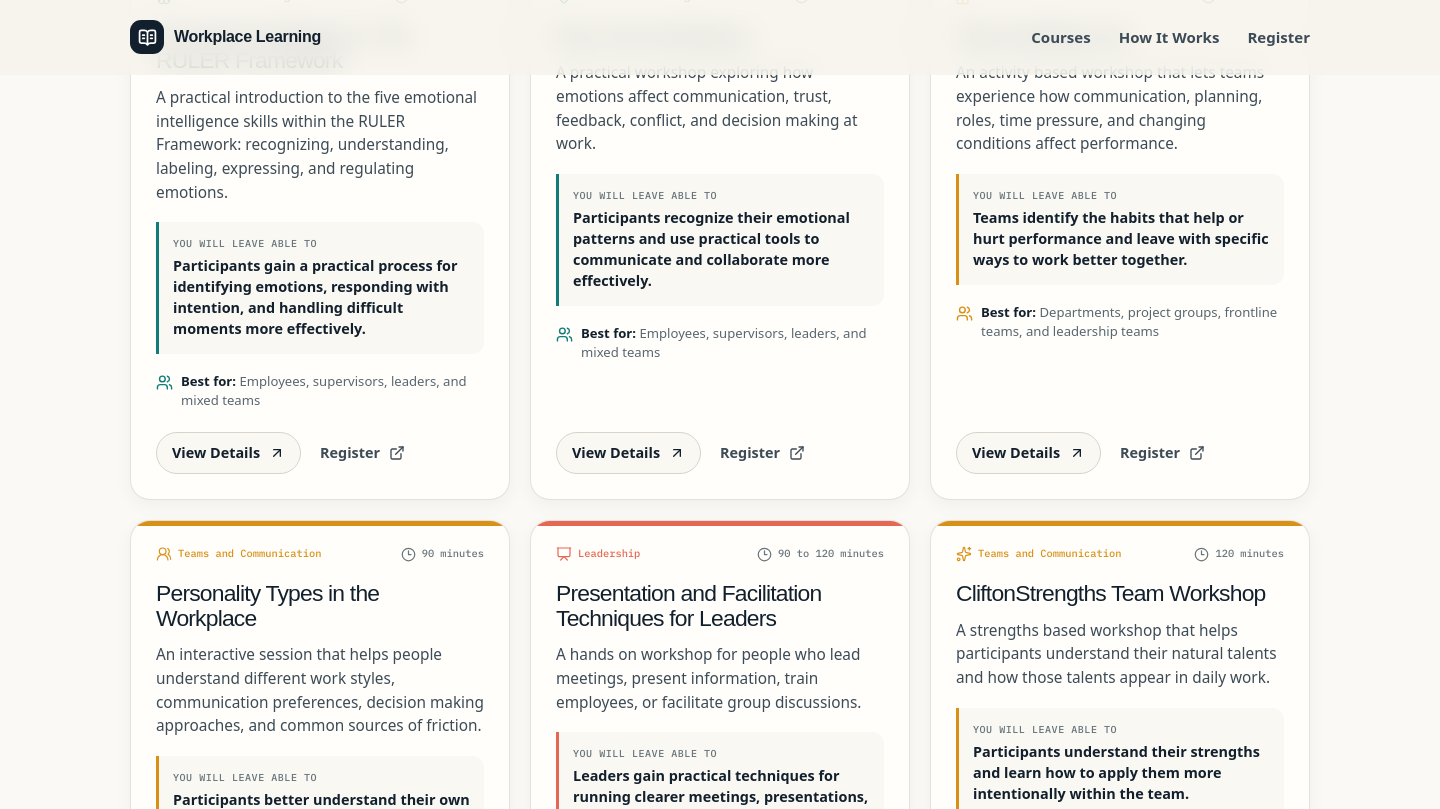
Test case: course details › closes with the visible close button
This screenshot has width=1440, height=809.
(page scrolled)
Click the button named "View details for Team Building 101" at (1028, 453), box x1=956 y1=432 x2=1101 y2=474
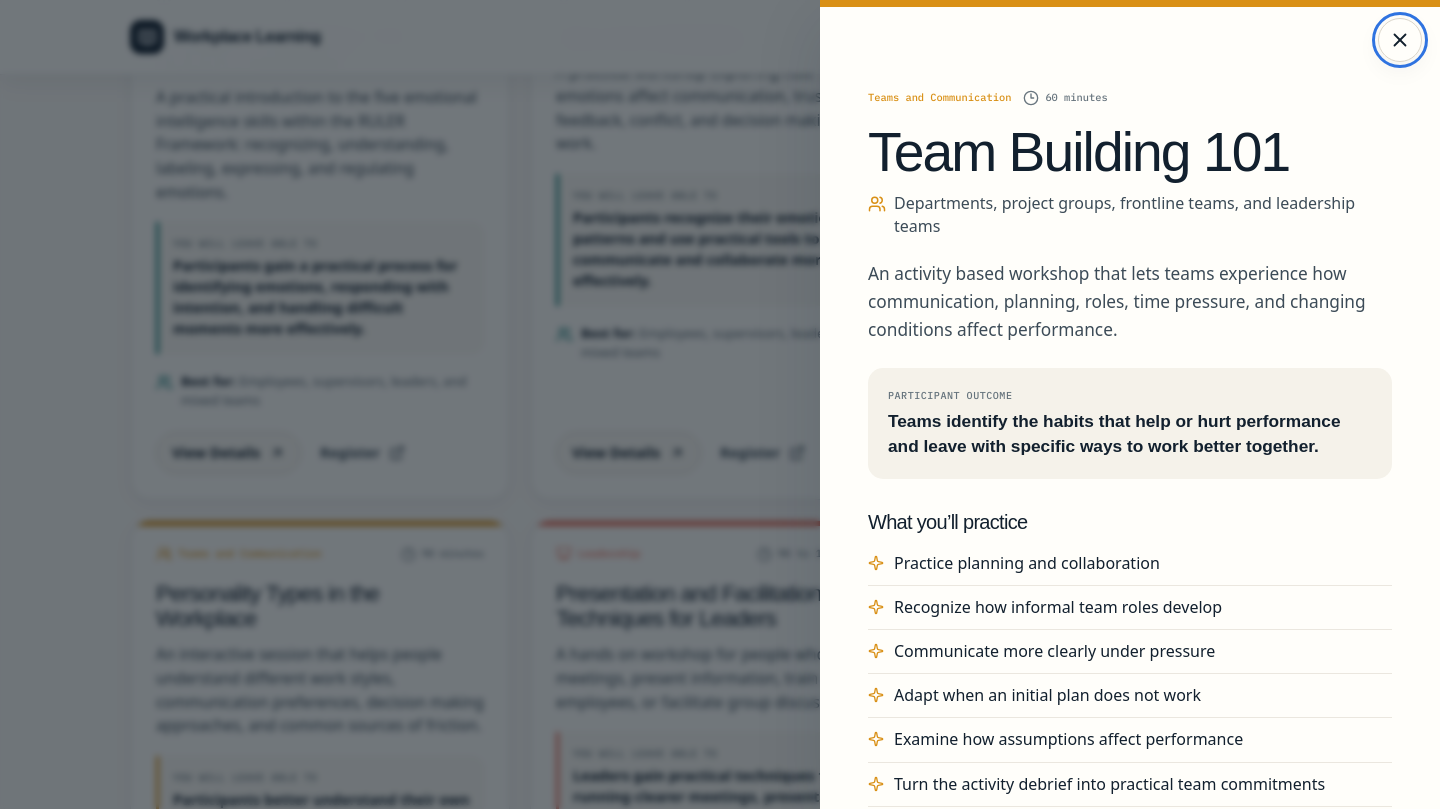
Click the button named "Close course details" at (1400, 40), box x1=1378 y1=18 x2=1422 y2=62
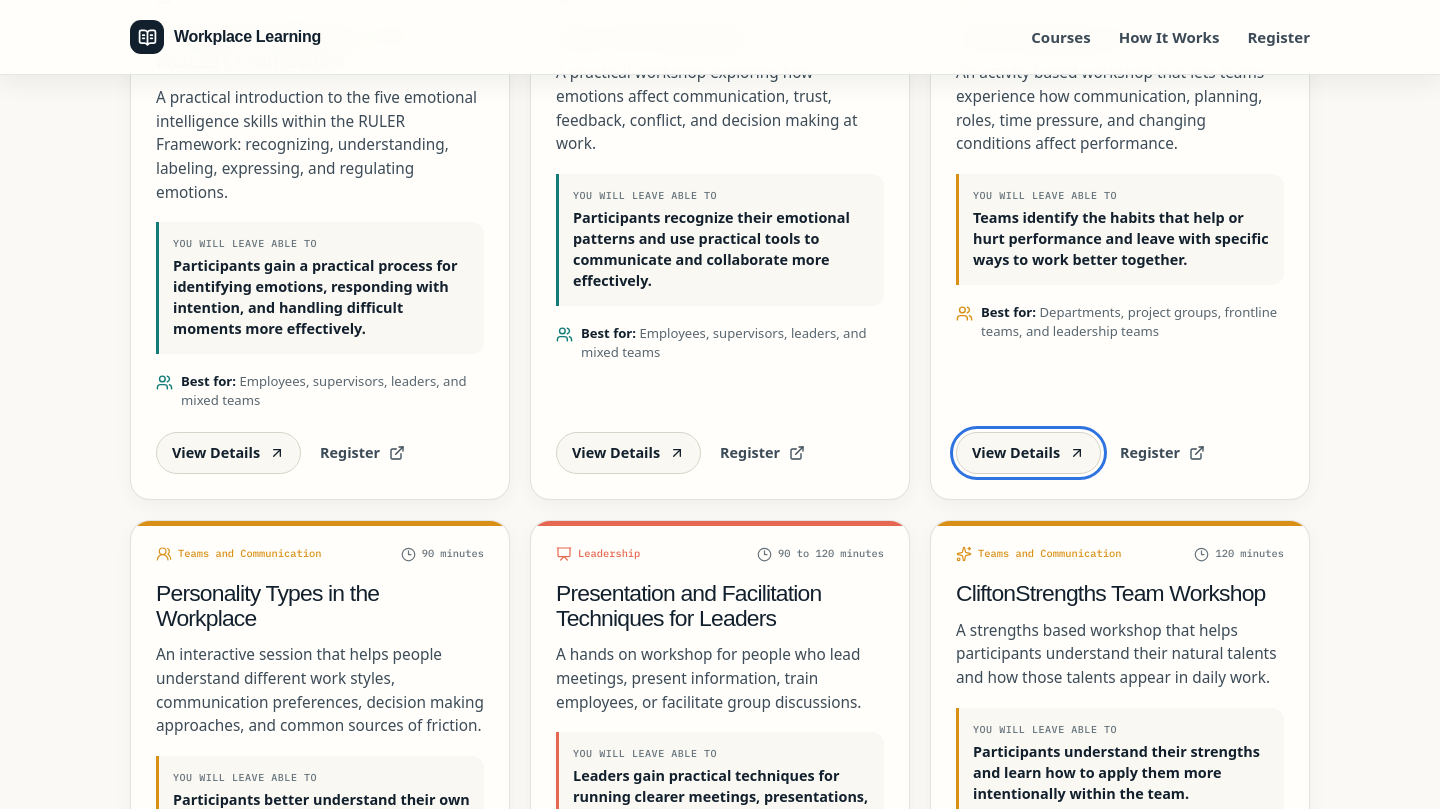
Check: the dialog is gone
